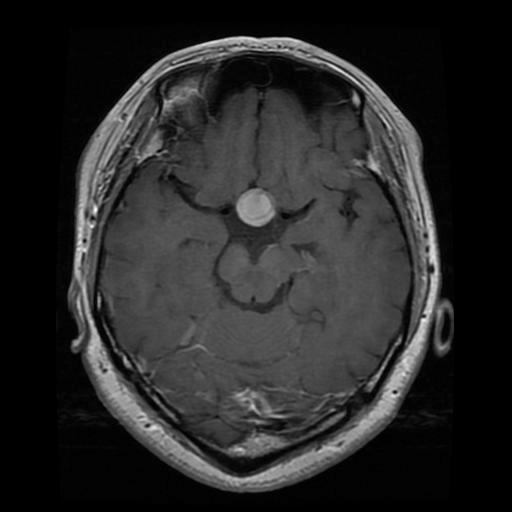Tumour-Pituitary: (236, 187, 277, 228)
